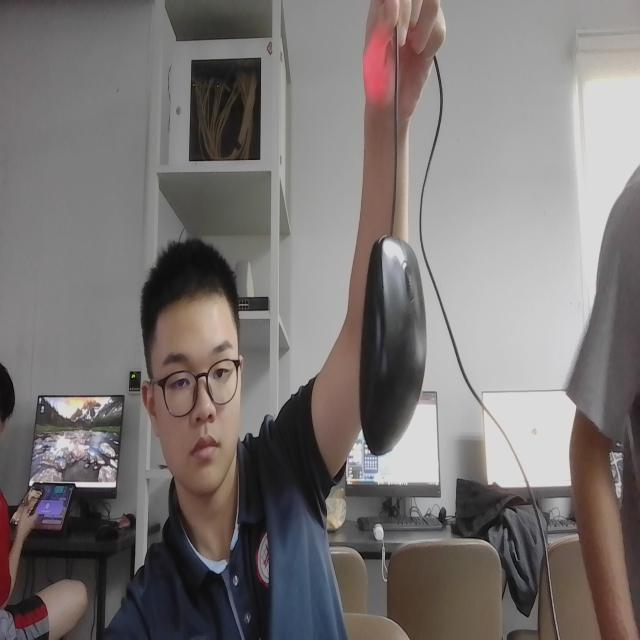mouse: (352, 224, 431, 468)
